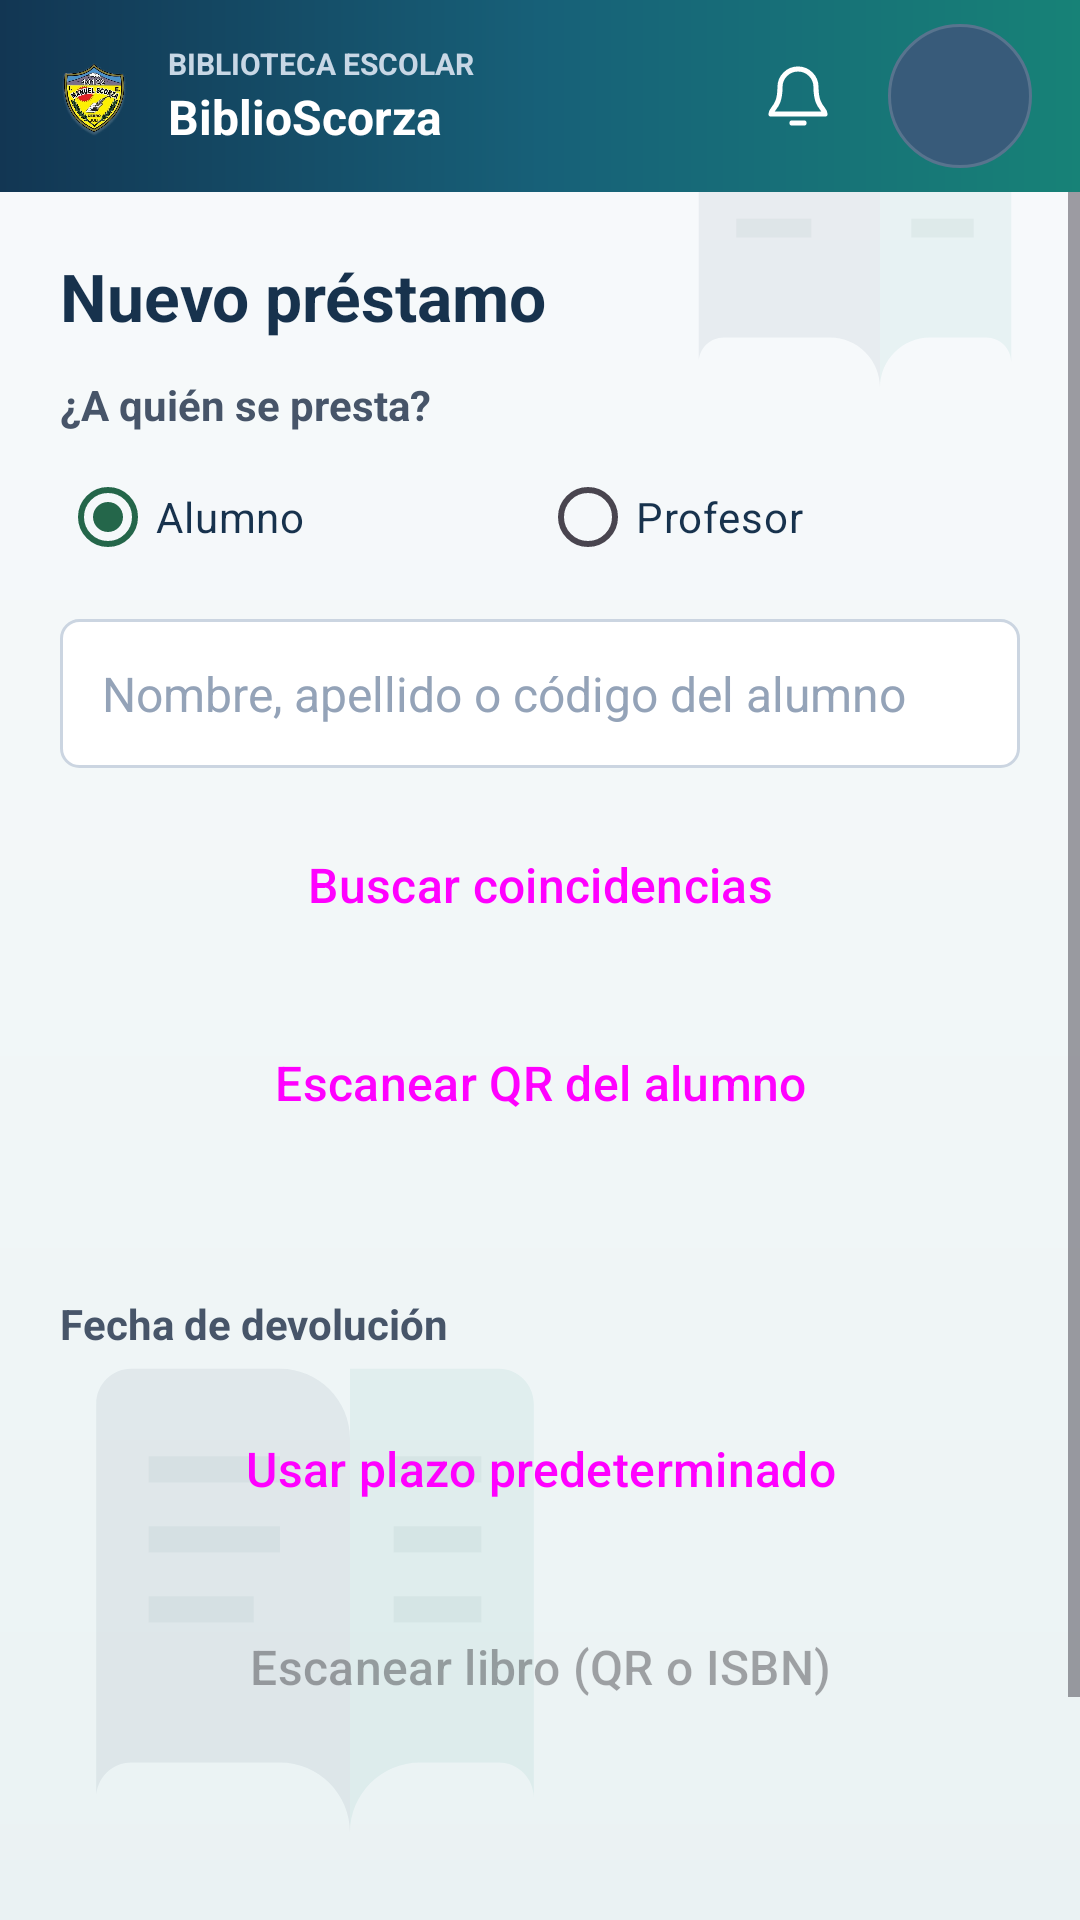

Screen size 1080 × 1920. Icon name, then its center in pixels as (x=x, y=y):
notifications: (x=798, y=96)
